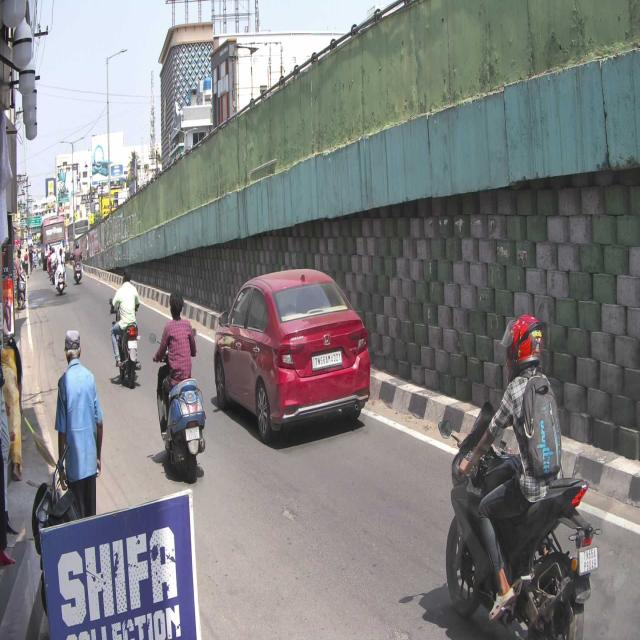single_rider: (438, 309, 600, 640), (148, 288, 206, 484)
